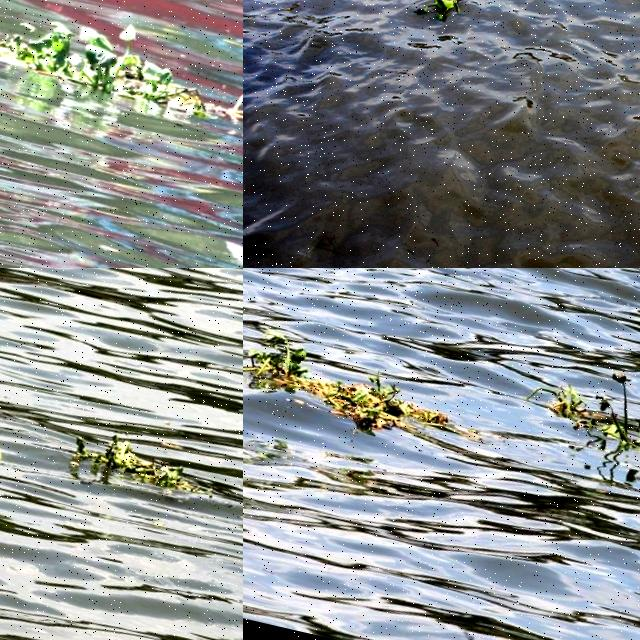water-hyacinth: (1, 1, 244, 140), (244, 307, 480, 444), (66, 421, 207, 505), (570, 367, 640, 473), (432, 1, 459, 22)
